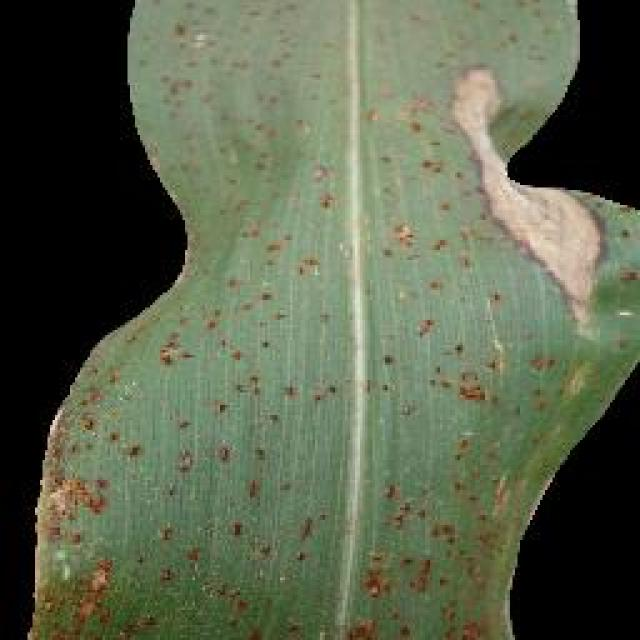Corn Common Rust: (140, 153, 528, 582)
